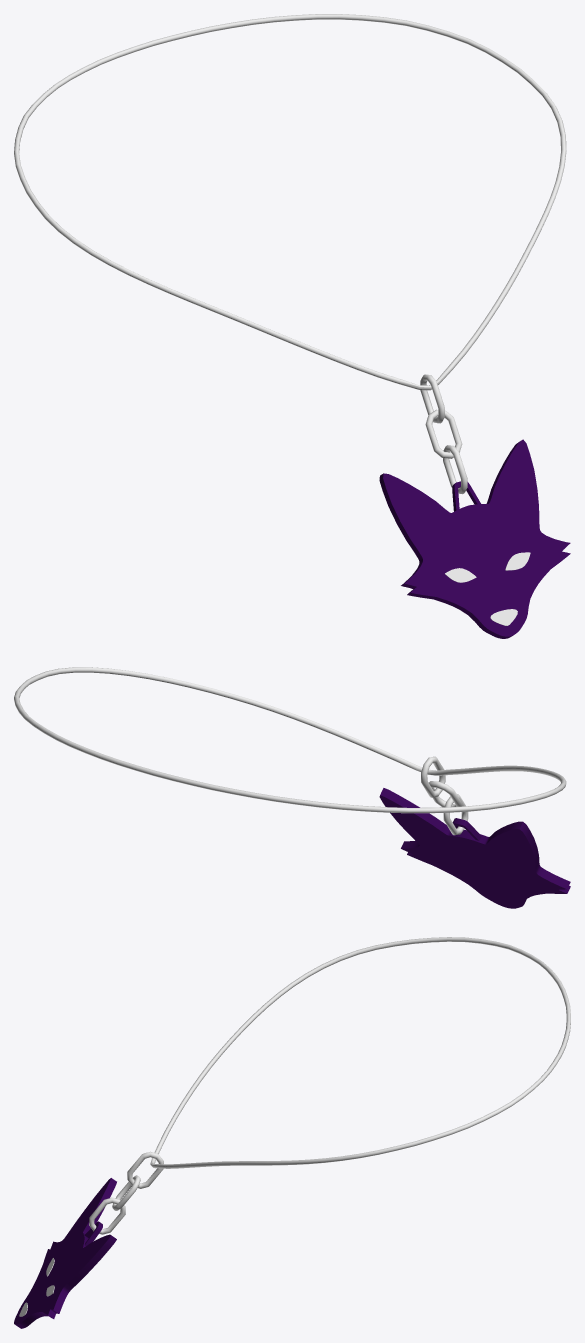
File: PurpleForNecklace.fbx
3 renders of one model, top to bottom at view 1: azimuth 30°, elevation 25°; view 2: azimuth 150°, elevation 25°; view 3: azimuth 270°, elevation 25°, orthographic. The views are drawn at different scales.
Parts seen in each view (by area): view 1: PurpleFoxNecklace; view 2: PurpleFoxNecklace; view 3: PurpleFoxNecklace.
Boxes of the visible parts, box(x1,y1,x2,y2) form: PurpleFoxNecklace: box(14, 14, 570, 638); PurpleFoxNecklace: box(14, 667, 570, 908); PurpleFoxNecklace: box(14, 937, 570, 1328).
Size of the model in its own units: 8.5 by 5.94 by 9.66.
